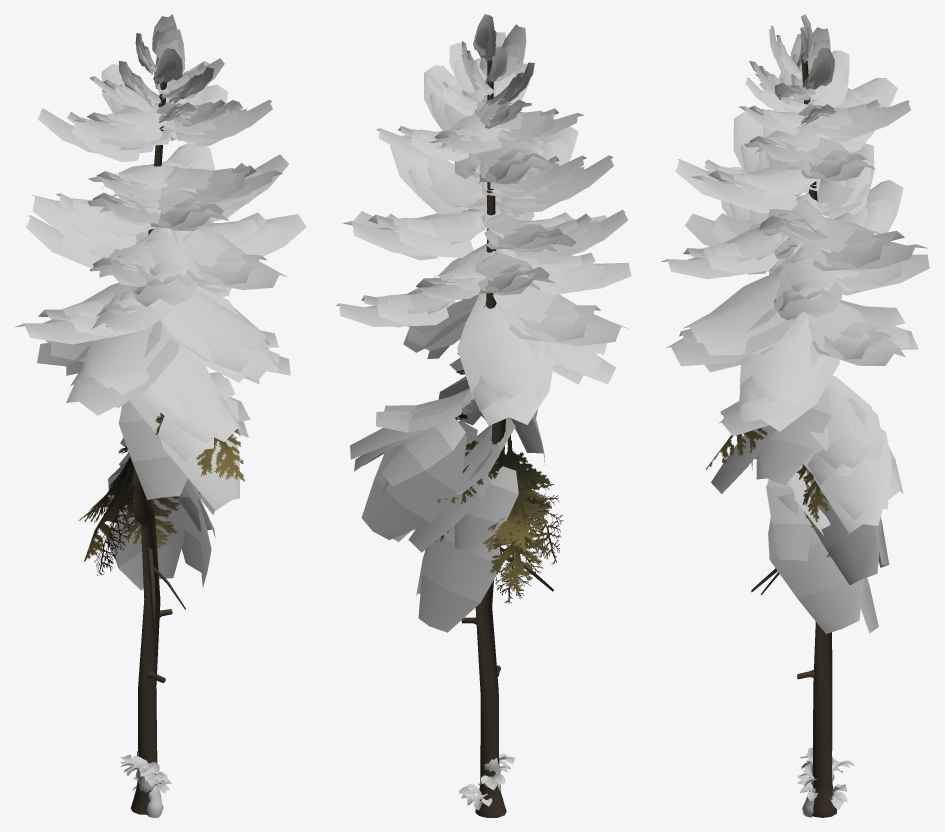
The model's file is Fir_Grön.L.A.X1.fbx.
3 renders of one model, left to right at view 1: azimuth 30°, elevation 25°; view 2: azimuth 150°, elevation 25°; view 3: azimuth 270°, elevation 25°, orthographic.
Parts seen in each view (by area): view 1: polySurface4468; view 2: polySurface4468; view 3: polySurface4468.
Part boxes in pixels (x1,y1,x2,y2): polySurface4468: (15, 14, 306, 817); polySurface4468: (336, 14, 631, 817); polySurface4468: (661, 14, 929, 817).
Size of the model in its own units: 565 by 1584 by 483.
